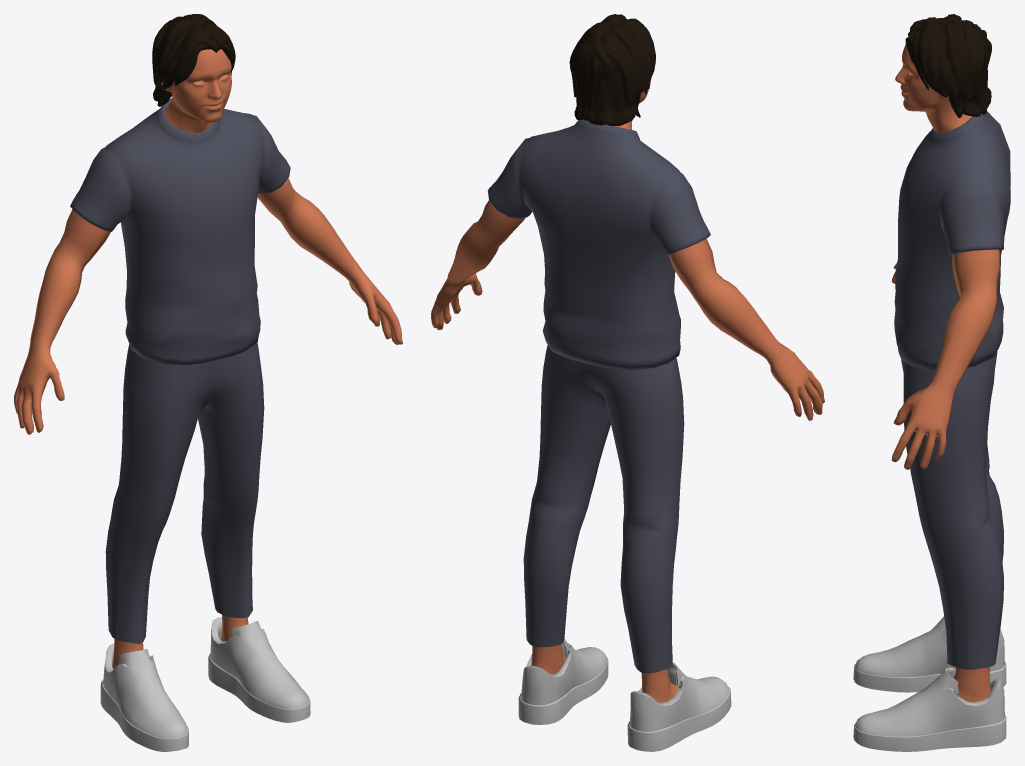
Rendered from man2.glb.
3 renders of one model, left to right at view 1: azimuth 30°, elevation 25°; view 2: azimuth 150°, elevation 25°; view 3: azimuth 270°, elevation 25°, orthographic.
Parts seen in each view (by area): view 1: Wolf3D_Outfit_Top.001, Wolf3D_Outfit_Bottom.001, Wolf3D_Body.001, Wolf3D_Outfit_Footwear.001, Wolf3D_Hair, Wolf3D_Head.001; view 2: Wolf3D_Outfit_Top.001, Wolf3D_Outfit_Bottom.001, Wolf3D_Body.001, Wolf3D_Outfit_Footwear.001, Wolf3D_Hair; view 3: Wolf3D_Outfit_Top.001, Wolf3D_Outfit_Bottom.001, Wolf3D_Outfit_Footwear.001, Wolf3D_Body.001, Wolf3D_Hair, Wolf3D_Head.001.
Part boxes in pixels (left/top/right/bottom): Wolf3D_Outfit_Top.001: left=70, top=98, right=290, bottom=365; Wolf3D_Outfit_Bottom.001: left=105, top=342, right=264, bottom=643; Wolf3D_Body.001: left=14, top=178, right=402, bottom=669; Wolf3D_Outfit_Footwear.001: left=100, top=617, right=310, bottom=751; Wolf3D_Hair: left=152, top=14, right=235, bottom=106; Wolf3D_Head.001: left=161, top=49, right=231, bottom=132; Wolf3D_Outfit_Top.001: left=487, top=119, right=710, bottom=370; Wolf3D_Outfit_Bottom.001: left=523, top=345, right=684, bottom=673; Wolf3D_Body.001: left=431, top=200, right=824, bottom=702; Wolf3D_Outfit_Footwear.001: left=518, top=638, right=731, bottom=751; Wolf3D_Hair: left=569, top=14, right=655, bottom=125; Wolf3D_Outfit_Top.001: left=894, top=111, right=1010, bottom=370; Wolf3D_Outfit_Bottom.001: left=901, top=351, right=1003, bottom=669; Wolf3D_Outfit_Footwear.001: left=853, top=616, right=1006, bottom=751; Wolf3D_Body.001: left=891, top=249, right=1000, bottom=702; Wolf3D_Hair: left=905, top=14, right=991, bottom=117; Wolf3D_Head.001: left=895, top=44, right=971, bottom=132.
Bounding box in the file's own units: 10.29 × 17.92 × 3.69.
4 materials, 1 textured.
